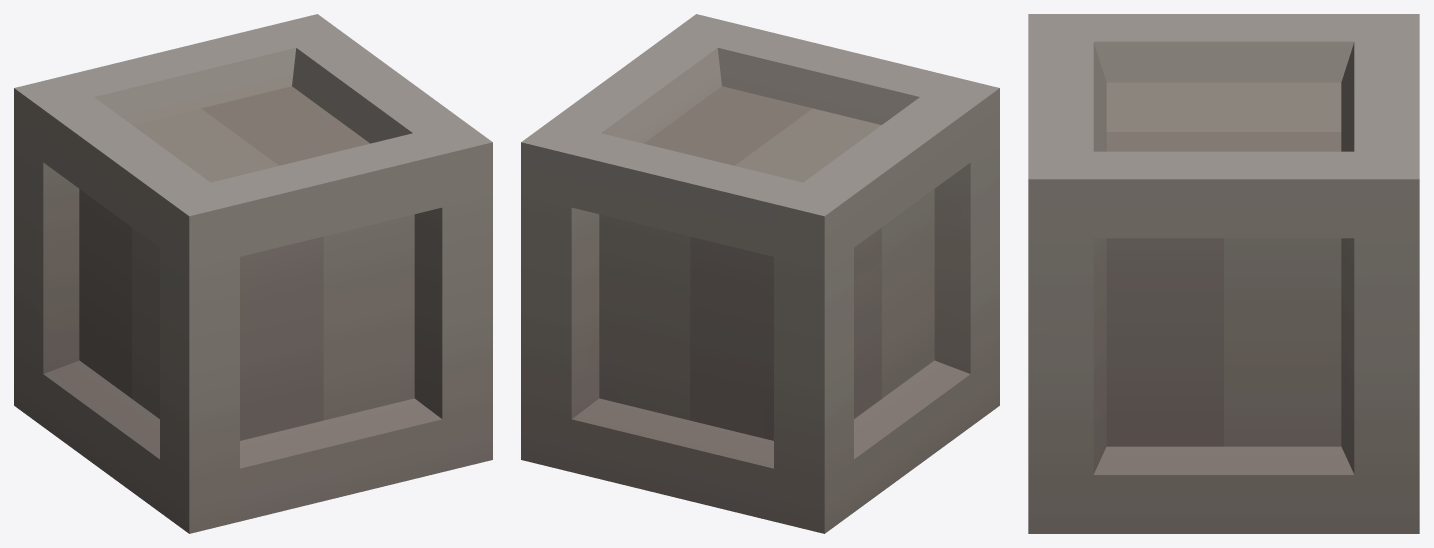
Rendered from crate_b_big.glb.
3 renders of one model, left to right at view 1: azimuth 30°, elevation 25°; view 2: azimuth 150°, elevation 25°; view 3: azimuth 270°, elevation 25°, orthographic. The views are drawn at different scales.
Parts seen in each view (by area): view 1: crate_B_big; view 2: crate_B_big; view 3: crate_B_big.
Part boxes in pixels (<box>): crate_B_big: <box>14,14,492,533</box>; crate_B_big: <box>521,14,999,533</box>; crate_B_big: <box>1028,14,1419,533</box>.
Size of the model in its own units: 0.21 by 0.21 by 0.21.
Materials: 1 (1 with a texture image).
